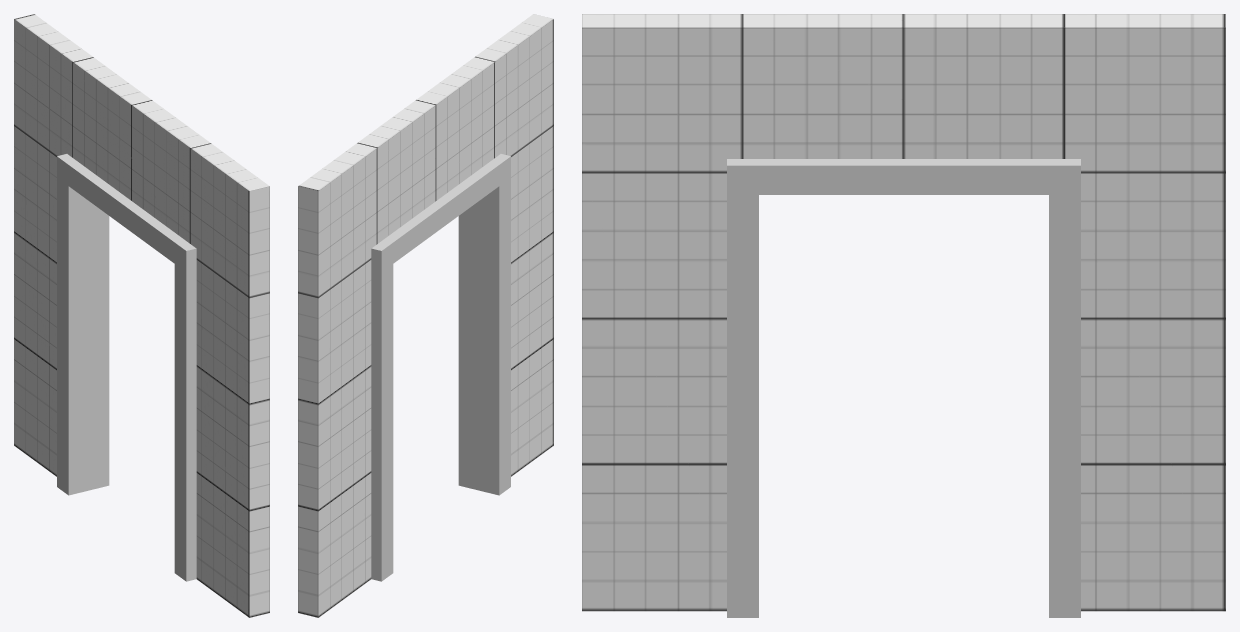
The model's file is Tile_Wall_Door_4_x4.fbx.
3 views of the same model, side by side, from view 1: azimuth 30°, elevation 25°; view 2: azimuth 150°, elevation 25°; view 3: azimuth 270°, elevation 25° (orthographic). The views are drawn at different scales.
Visible parts, largest first — view 1: Tile_Wall_Door_4_x4; view 2: Tile_Wall_Door_4_x4; view 3: Tile_Wall_Door_4_x4.
Part boxes in pixels (<box>): Tile_Wall_Door_4_x4: <box>14,14,269,617</box>; Tile_Wall_Door_4_x4: <box>298,14,553,617</box>; Tile_Wall_Door_4_x4: <box>582,14,1225,617</box>.
Size of the model in its own units: 40 by 400 by 400.
